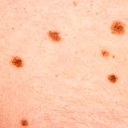Melanoma: (110, 21, 127, 37), (47, 28, 63, 44), (10, 55, 26, 70)
